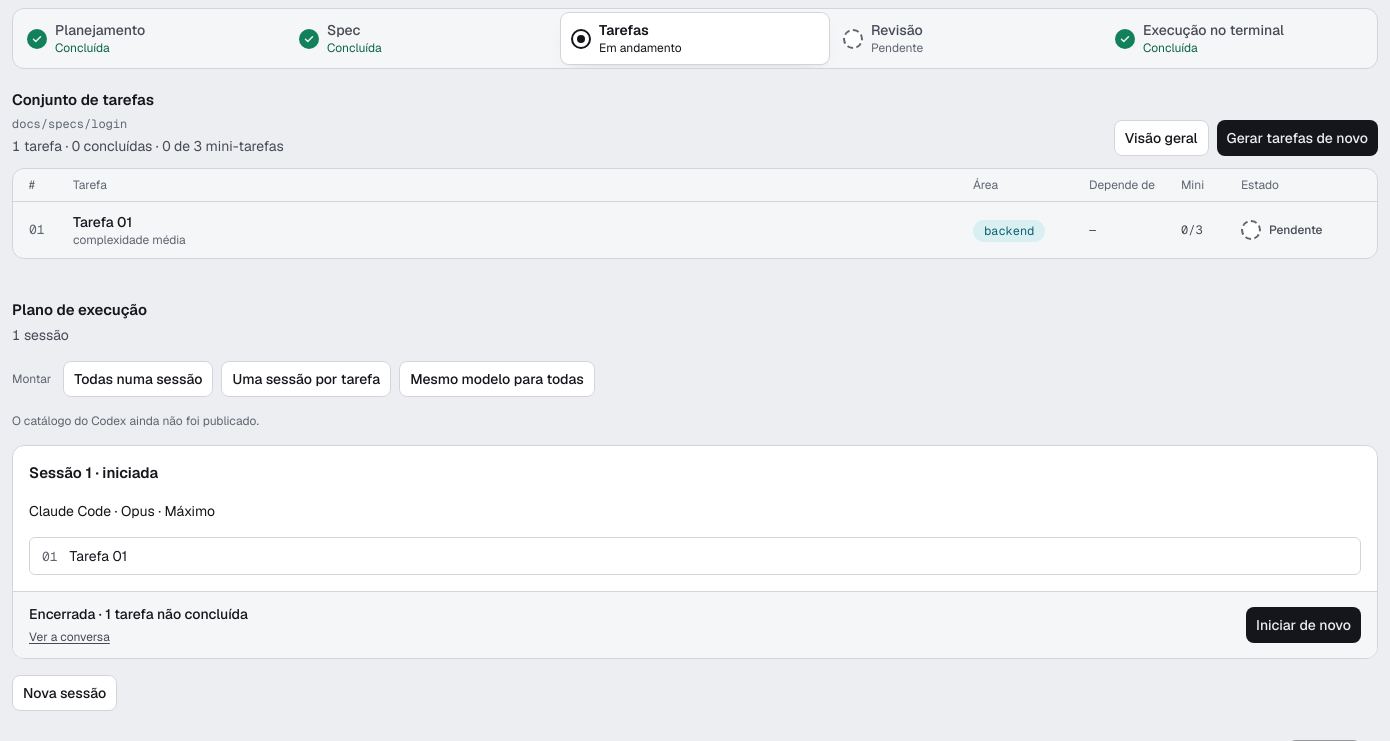
Test case: OperatorStages tabs with tasks › REQ-104 opens, from Ver a conversa, the conversation of the plan session even when a newer session exists
Step 1. Click the button "Ver a conversa" → (69, 637), box [29, 629, 110, 645]
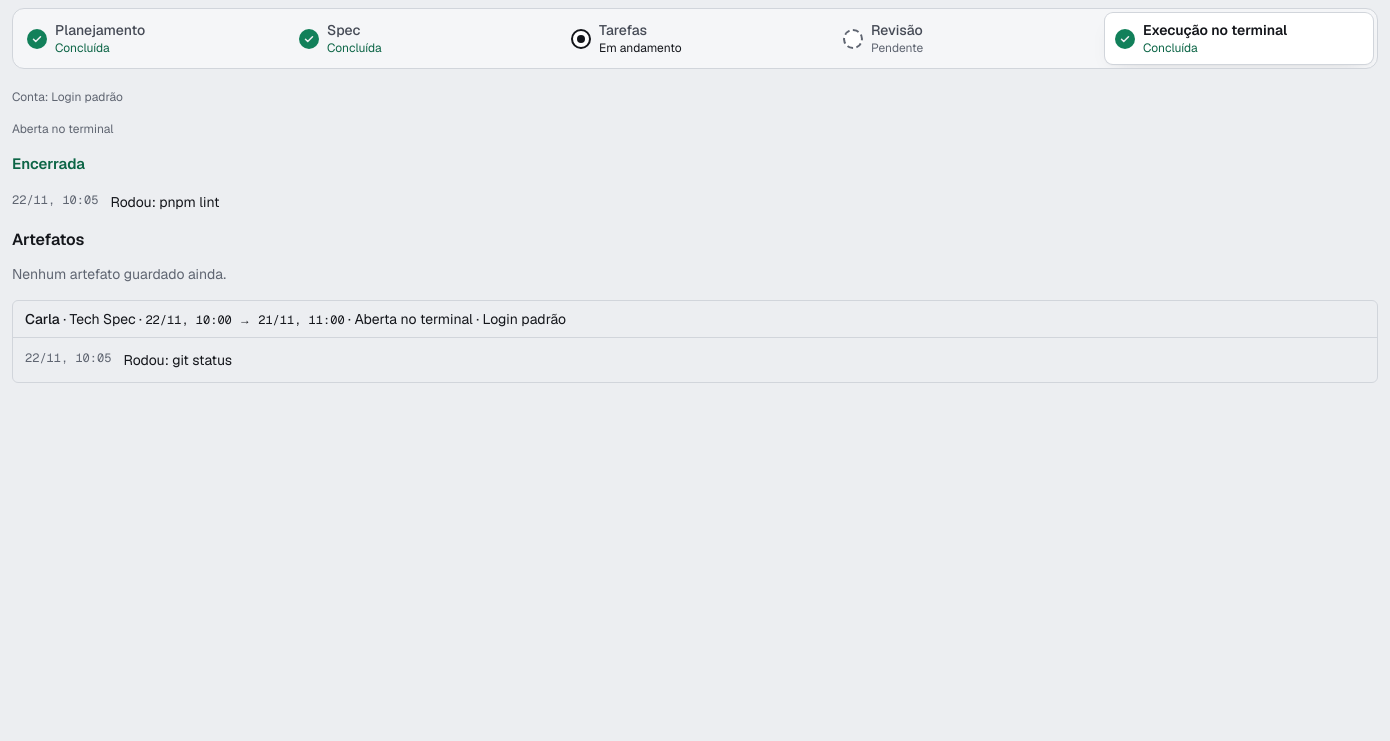
Expected: the text "Rodou: git status" is shown, [123, 350, 232, 370]
